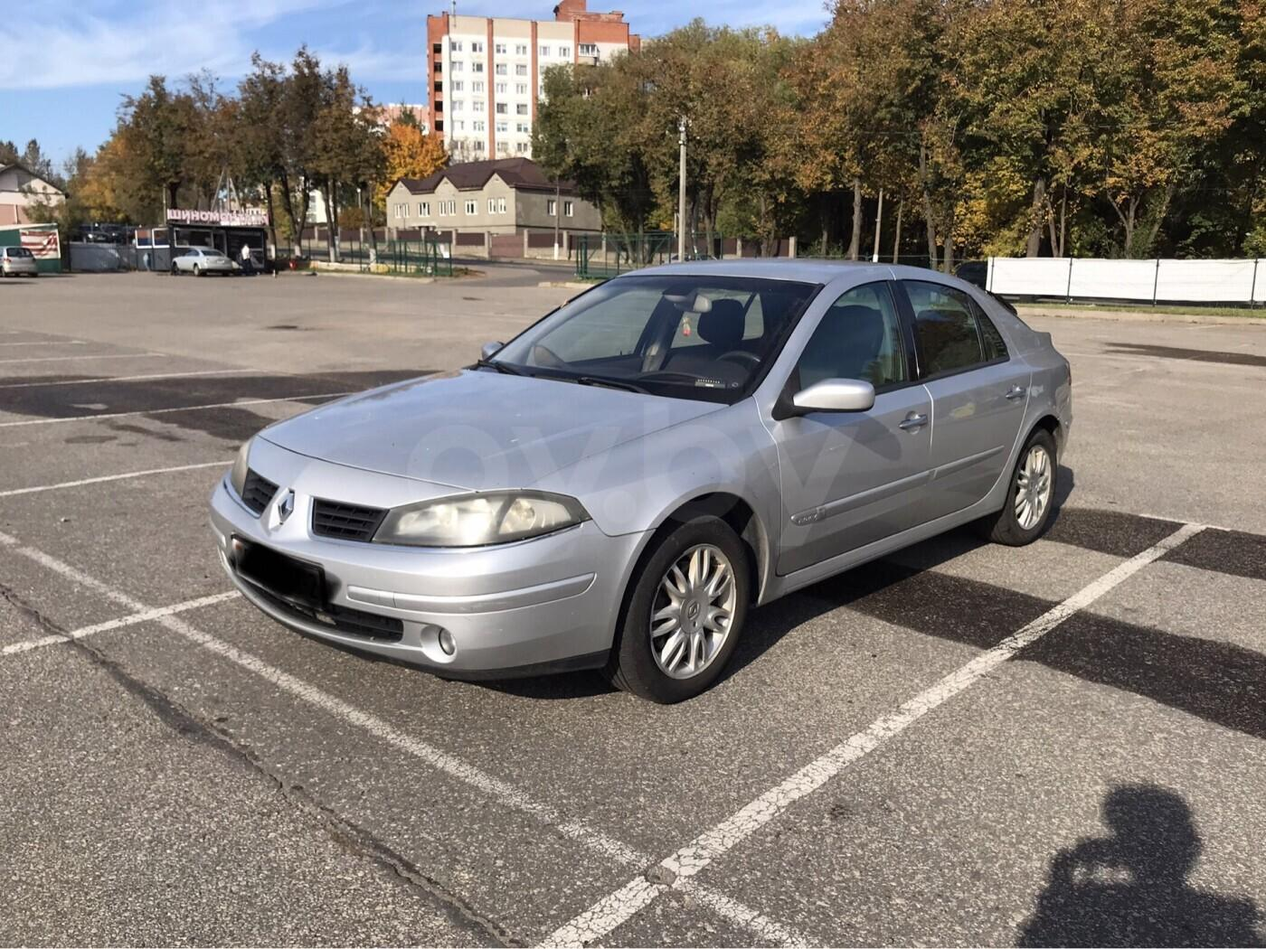Laguna_2005-2007: (209, 254, 1079, 705)
